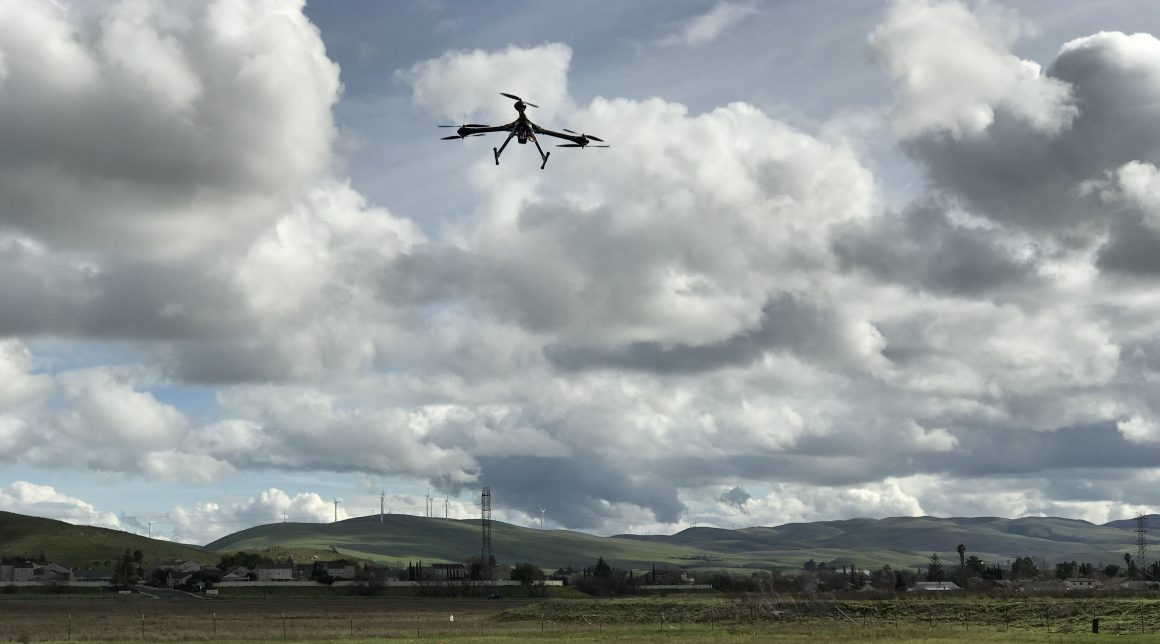drone: (437, 92, 610, 172)
